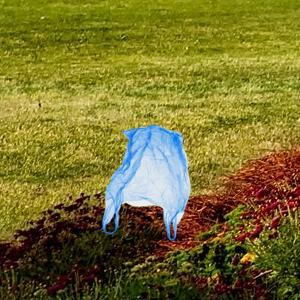plastic_bag: (98, 124, 192, 242)
